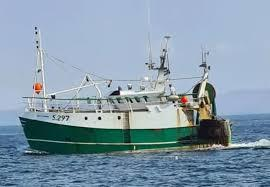Ship: (17, 23, 235, 153)
